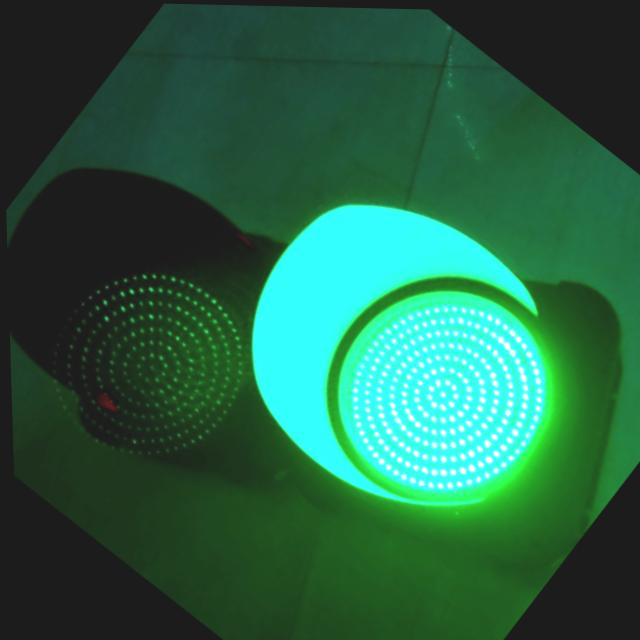Hijau: (289, 237, 596, 545)
